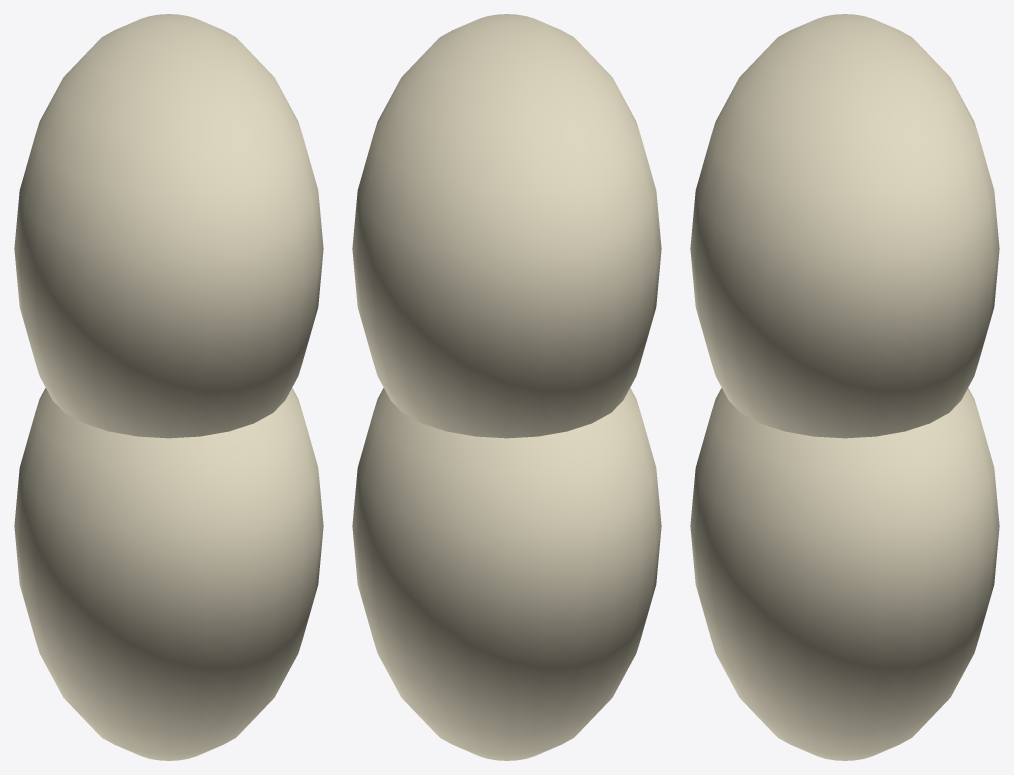
The model's file is original-7.obj.
3 renders of one model, left to right at view 1: azimuth 30°, elevation 25°; view 2: azimuth 150°, elevation 25°; view 3: azimuth 270°, elevation 25°, orthographic.
Visible parts, largest first — view 1: Group8/mesh3/mesh3-geometry#mesh3-geometry; view 2: Group8/mesh3/mesh3-geometry#mesh3-geometry; view 3: Group8/mesh3/mesh3-geometry#mesh3-geometry.
Part boxes in pixels (left/top/right/bottom): Group8/mesh3/mesh3-geometry#mesh3-geometry: left=14, top=14, right=323, bottom=760; Group8/mesh3/mesh3-geometry#mesh3-geometry: left=352, top=14, right=661, bottom=760; Group8/mesh3/mesh3-geometry#mesh3-geometry: left=690, top=14, right=999, bottom=760.
Size of the model in its own units: 0.0311 by 0.0808 by 0.0311.
